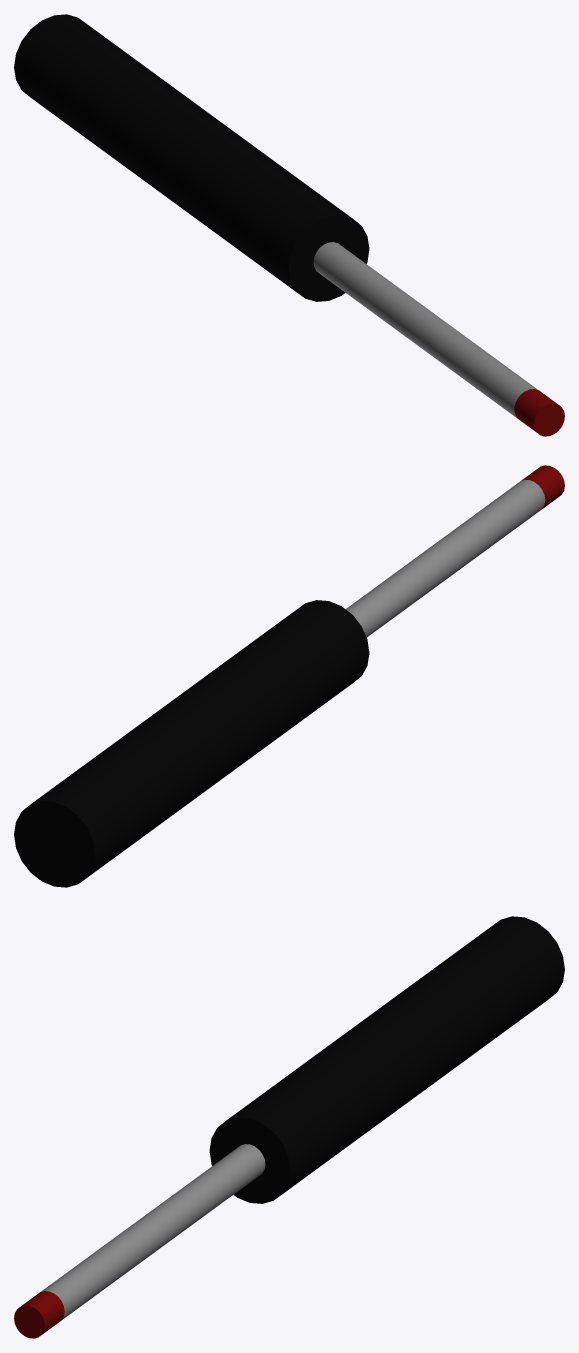
File: Gun Model.fbx
3 renders of one model, top to bottom at view 1: azimuth 30°, elevation 25°; view 2: azimuth 150°, elevation 25°; view 3: azimuth 330°, elevation 25°, orthographic.
Parts seen in each view (by area): view 1: pCylinder5, pCylinder6; view 2: pCylinder5, pCylinder6; view 3: pCylinder5, pCylinder6.
Boxes of the visible parts, x1,y1,x2,y2 form: pCylinder5: (14,14,369,301); pCylinder6: (313,242,564,436); pCylinder5: (14,600,369,887); pCylinder6: (345,465,564,637); pCylinder5: (209,916,564,1203); pCylinder6: (14,1144,265,1338).
Size of the model in its own units: 0.4702 by 0.47 by 4.98.
